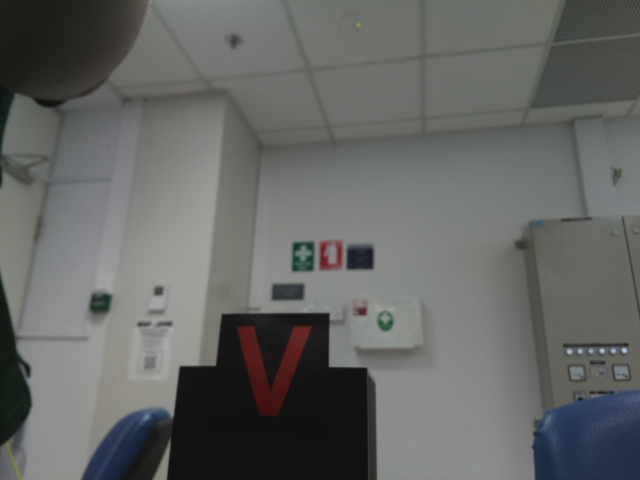v: (229, 317, 318, 419)
